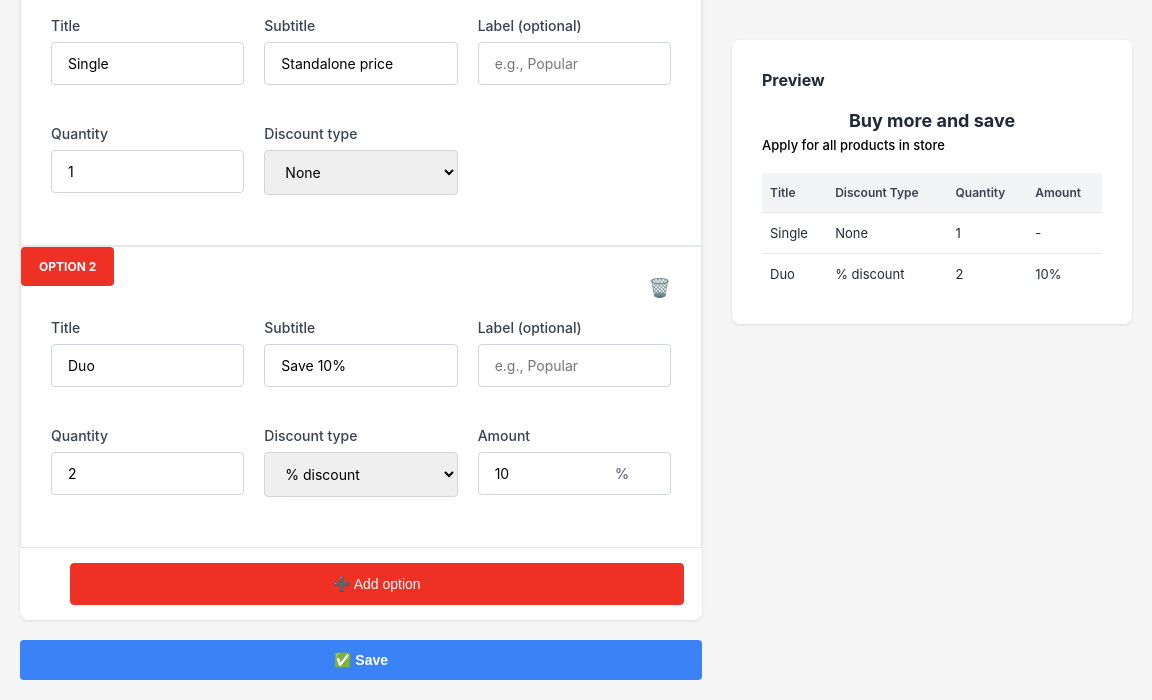
Test case: VolumeDiscountForm Component › Form Submission › shows error message when fetch fails
(page scrolled)
Step 1. Click the button "✅ Save" → (361, 660), box [20,640,702,680]
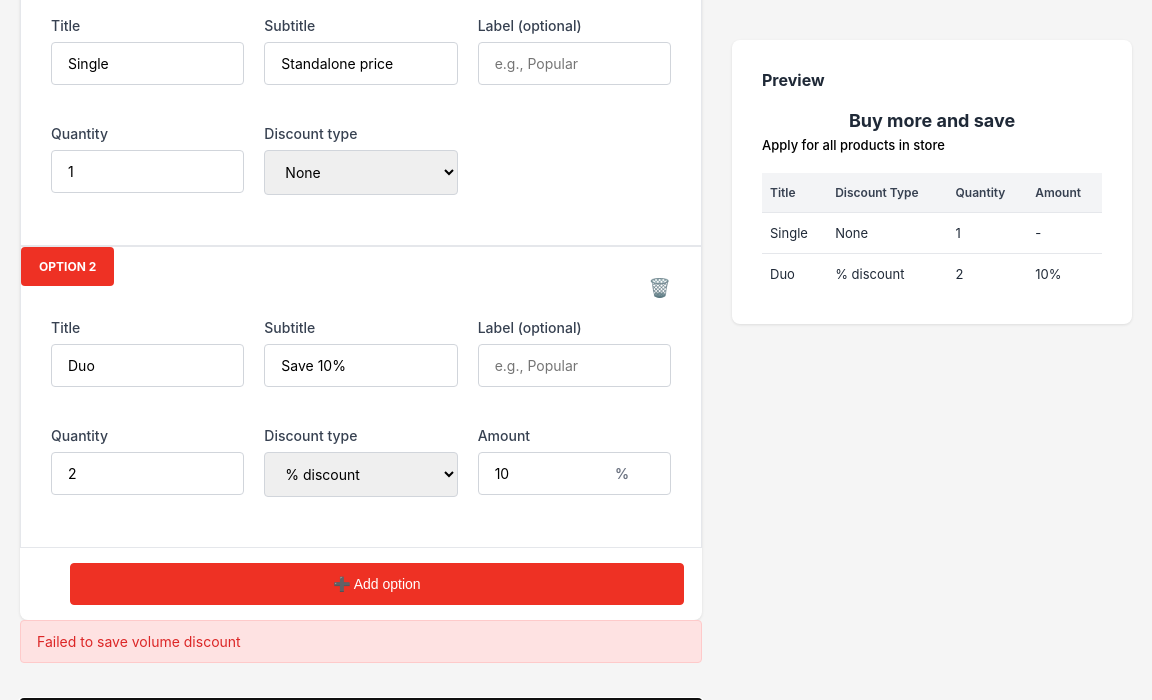
Expected: the text "Failed to save volume discount" is shown, [20,620,702,663]
